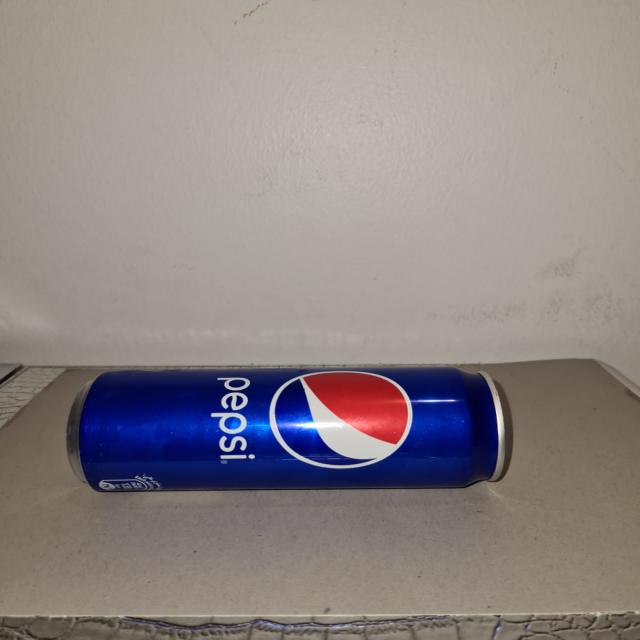non-organic waste: (55, 361, 520, 502)
